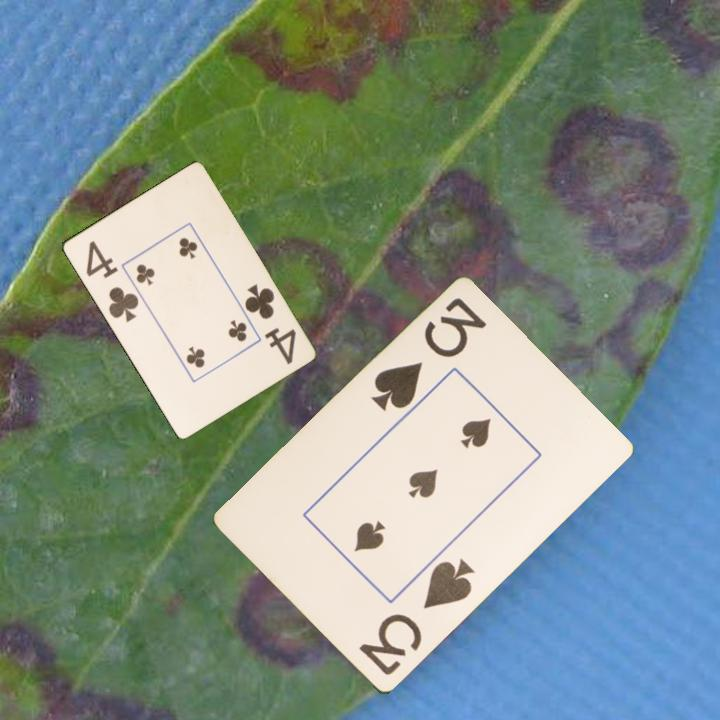3s: (355, 555, 478, 680), (367, 294, 490, 416)
4c: (82, 237, 141, 325), (240, 280, 299, 367)
